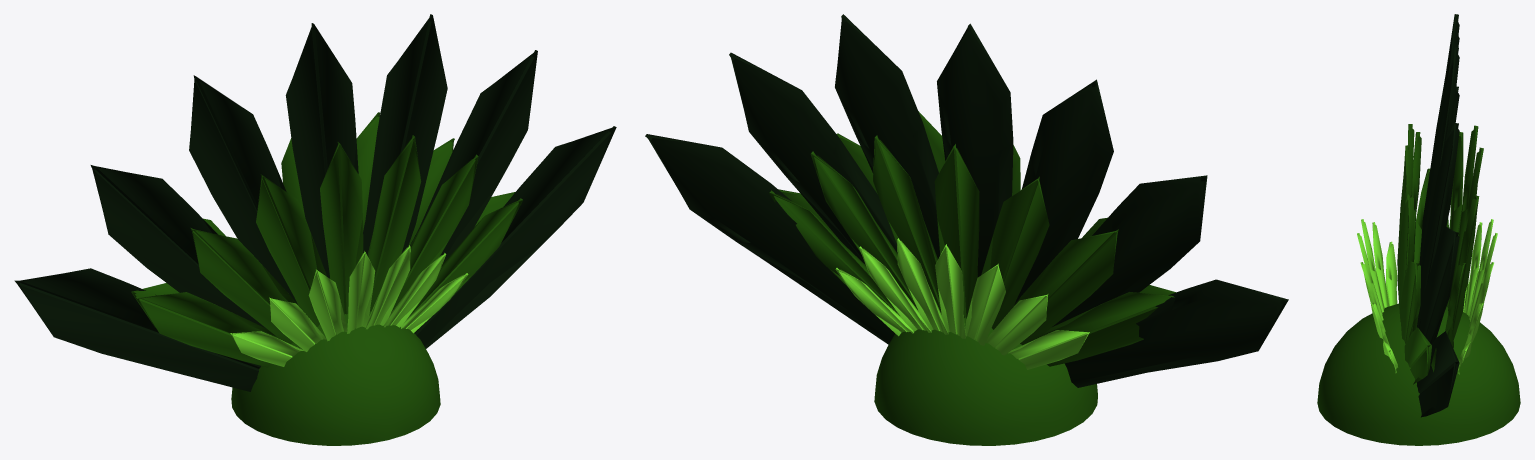
Rendered from EspadaSol.fbx.
3 renders of one model, left to right at view 1: azimuth 30°, elevation 25°; view 2: azimuth 150°, elevation 25°; view 3: azimuth 270°, elevation 25°, orthographic. The views are drawn at different scales.
Parts seen in each view (by area): view 1: Line001; view 2: Line001; view 3: Line001.
Part boxes in pixels (box(x1,y1,x2,y2)): Line001: box(14, 14, 616, 445); Line001: box(645, 14, 1288, 445); Line001: box(1317, 14, 1520, 445).
Bounding box in the file's own units: 83.04 × 25.11 × 48.28.
